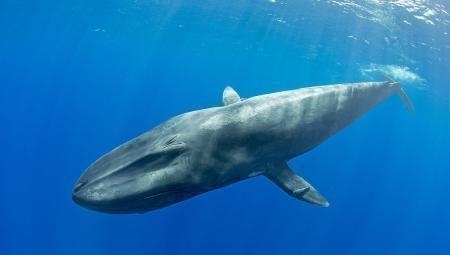fish: (71, 65, 418, 216)
